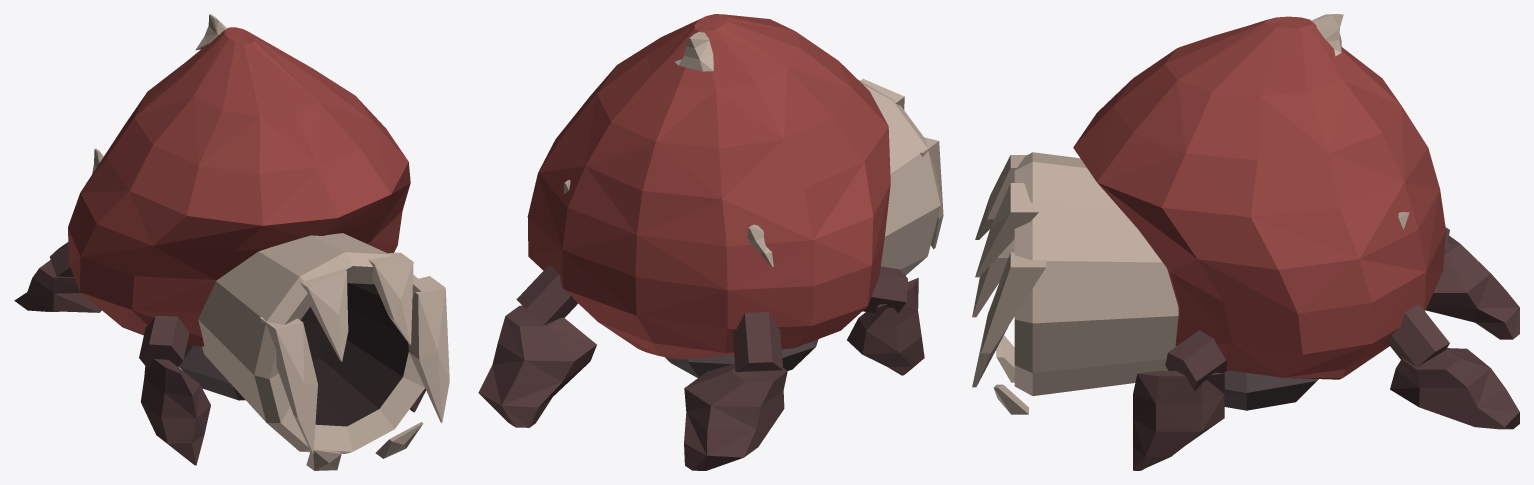
File: swarmer-model.glb
The picture shows the model from 3 angles, left to right: view 1: azimuth 30°, elevation 25°; view 2: azimuth 150°, elevation 25°; view 3: azimuth 270°, elevation 25°; orthographic projection. The views are drawn at different scales.
Parts seen in each view (by area): view 1: RedShell, JawShell, FrontLeg.L, SideFang.R, SideFang.L, UpperFang.R, UpperFang.L, BackLeg.R, FrontJoint.L, UnderShell, MouthRecess, LowerTooth.R (+2 smaller); view 2: RedShell, BackLeg.L, BackLeg.R, JawShell, FrontLeg.L, BackJoint.R, BackJoint.L, UnderShell, FrontJoint.L, BackSpike, SideFang.L, ShellSpike.L; view 3: RedShell, JawShell, BackLeg.L, FrontLeg.R, BackLeg.R, SideFang.R, UnderShell, UpperFang.R, BackJoint.L, FrontJoint.R, UpperFang.L, SideFang.L (+3 smaller).
Part boxes in pixels (x1,y1,x2,y2): RedShell: (68,27,410,346); JawShell: (198,233,424,453); FrontLeg.L: (141,359,210,465); SideFang.R: (408,276,449,422); SideFang.L: (259,317,317,454); UpperFang.R: (368,252,413,344); UpperFang.L: (299,269,348,361); BackLeg.R: (14,260,101,312); FrontJoint.L: (139,316,189,369); UnderShell: (179,345,245,400); MouthRecess: (300,307,330,361); LowerTooth.R: (375,422,423,458); RedShell: (527,14,890,359); BackLeg.L: (478,305,596,427); BackLeg.R: (684,363,787,470); JawShell: (858,79,941,275); FrontLeg.L: (847,277,924,375); BackJoint.R: (732,312,783,371); BackJoint.L: (516,265,577,324); UnderShell: (665,339,818,377); FrontJoint.L: (863,266,907,313); BackSpike: (675,32,713,71); SideFang.L: (919,137,943,249); ShellSpike.L: (747,224,773,267); RedShell: (1073,16,1445,379); JawShell: (1014,152,1178,395); BackLeg.L: (1390,348,1519,429); FrontLeg.R: (1133,371,1224,470); BackLeg.R: (1426,235,1519,339); SideFang.R: (972,252,1046,387); UnderShell: (1224,370,1318,410); UpperFang.R: (975,183,1038,277); BackJoint.L: (1387,304,1449,367); FrontJoint.R: (1165,330,1227,391); UpperFang.L: (975,155,1026,239); SideFang.L: (972,239,1014,317).
Bounding box in the file's own units: 0.5579 × 0.6124 × 0.7678.
